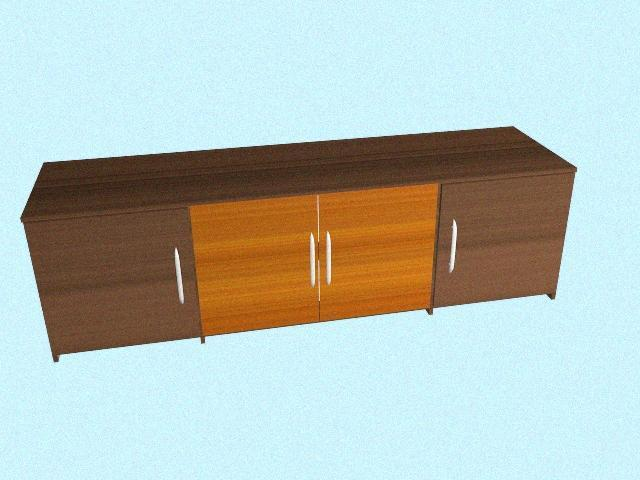cabinet_door: (38, 216, 195, 346), (196, 203, 320, 329), (438, 180, 565, 300), (320, 192, 434, 314)
handle: (166, 247, 185, 306), (325, 230, 339, 286), (306, 228, 319, 287), (449, 217, 461, 273)
